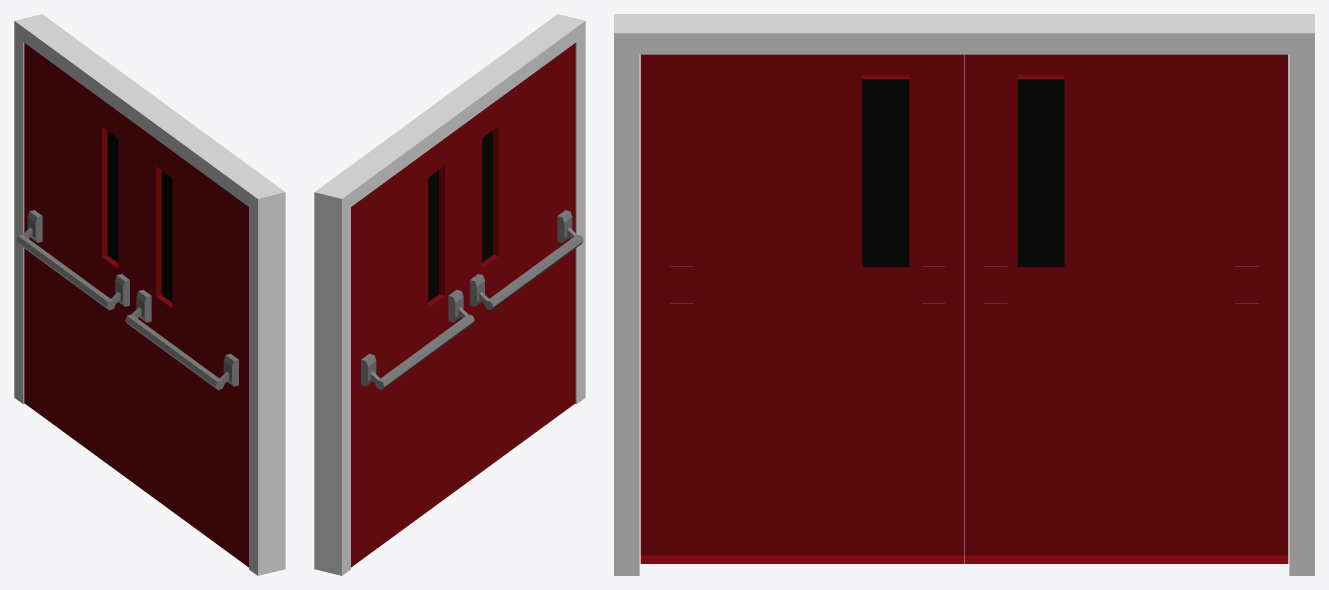
File: doubleDoor.fbx
3 renders of one model, left to right at view 1: azimuth 30°, elevation 25°; view 2: azimuth 150°, elevation 25°; view 3: azimuth 270°, elevation 25°, orthographic. The views are drawn at different scales.
Parts seen in each view (by area): view 1: Doors, Frame; view 2: Doors, Frame; view 3: Doors, Frame.
Boxes of the visible parts, x1,y1,x2,y2 form: Doors: (16,43,248,567); Frame: (14,14,285,575); Doors: (351,43,583,567); Frame: (314,14,585,575); Doors: (640,54,1288,563); Frame: (614,14,1314,575).
Bounding box in the file's own units: 49.37 × 370 × 433.
